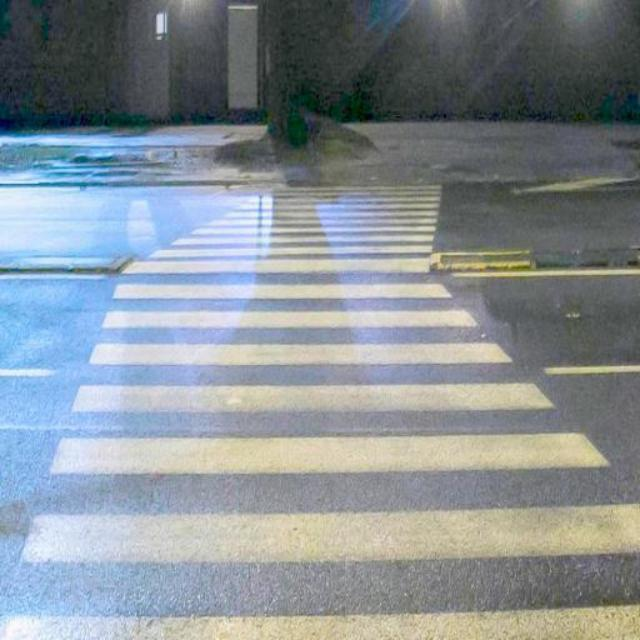sidewalk: (8, 182, 636, 637)
